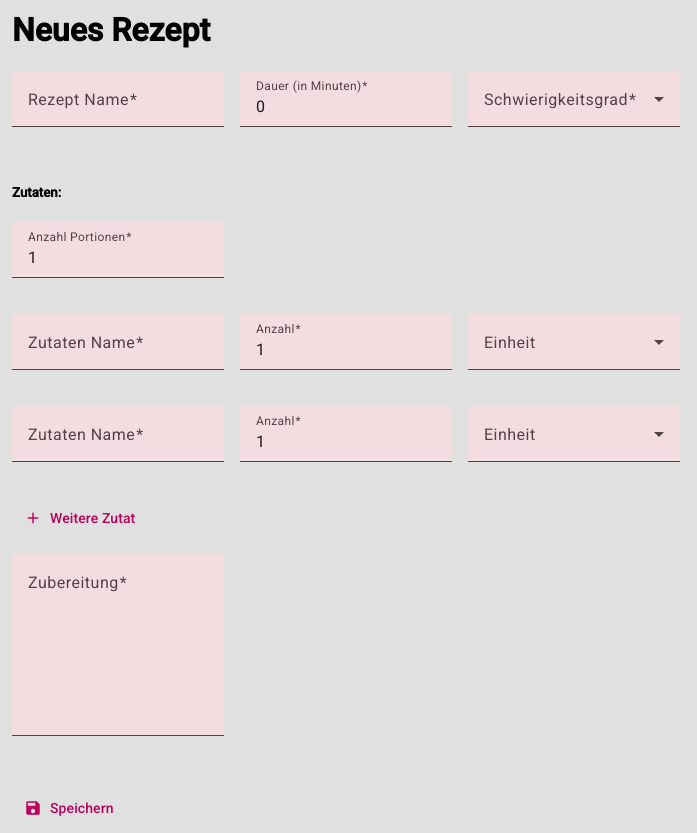
Test: form validation › name field › should show error when no value provided
Focus the field named "name" at (118, 107), box [28,95,208,119]
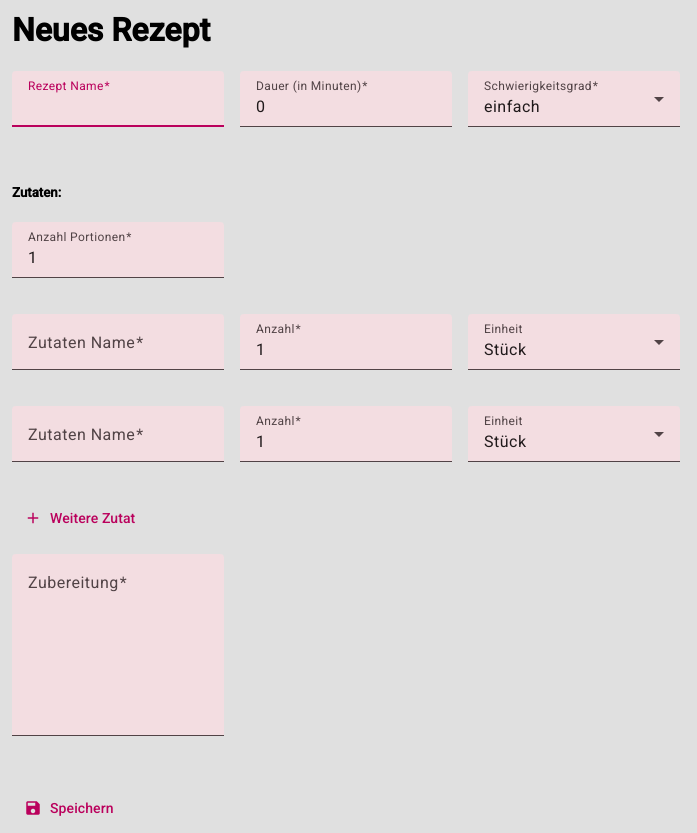
Leave the field named "name", box [28,95,208,119]
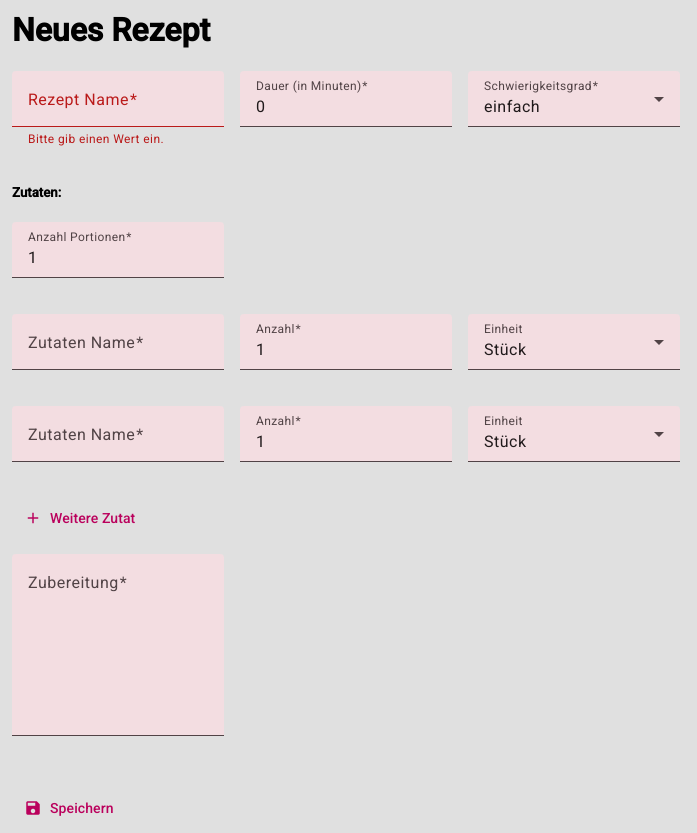
Check: the text "Bitte gib einen Wert ein." is shown, box [28,132,164,146]
